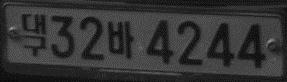2: (177, 20, 203, 65), (79, 16, 105, 60)
3: (50, 15, 74, 59)
4: (205, 21, 234, 66), (236, 23, 265, 67), (145, 20, 173, 63)
대구_V: (21, 12, 47, 56)
바: (107, 20, 134, 58)
